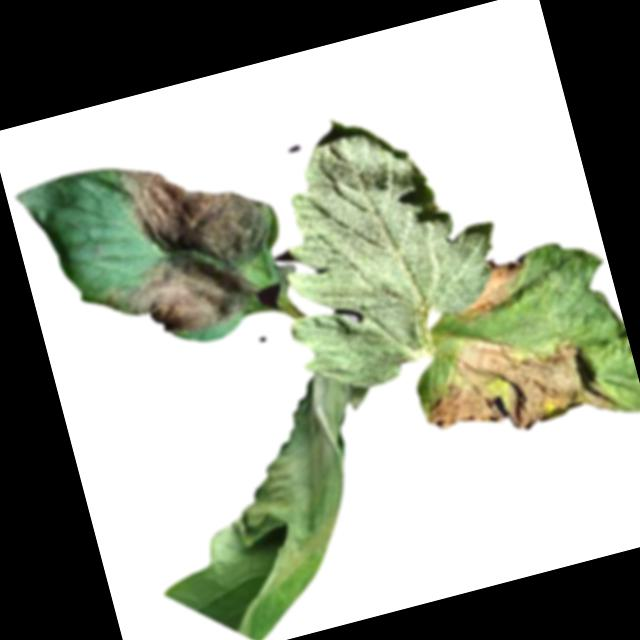Late_blight: (120, 367, 407, 640), (67, 130, 291, 352), (408, 303, 622, 454), (447, 252, 534, 319)
